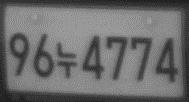4: (152, 37, 180, 83), (81, 33, 105, 81)
6: (32, 33, 54, 78)
7: (104, 35, 129, 81), (129, 35, 153, 82)
9: (8, 32, 29, 77)
누: (55, 40, 78, 80)
